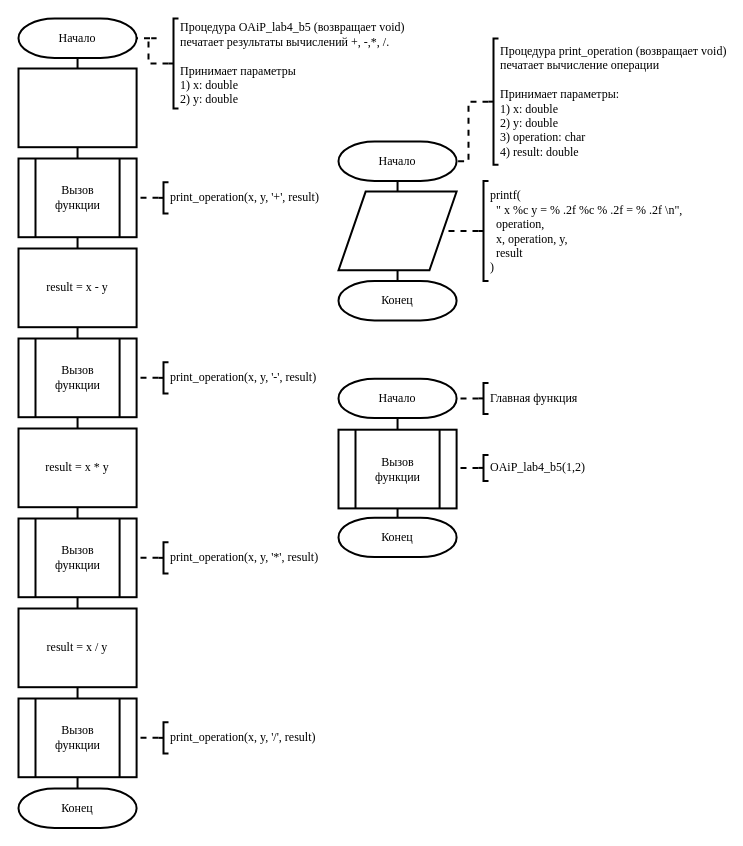
Some shapes in this 743 by 846 pixel diagram are drawn without their labels. Each missing label, with the centre of its shape:
result = x + y: the point at 77,107
Форматная печать: the point at 397,230
